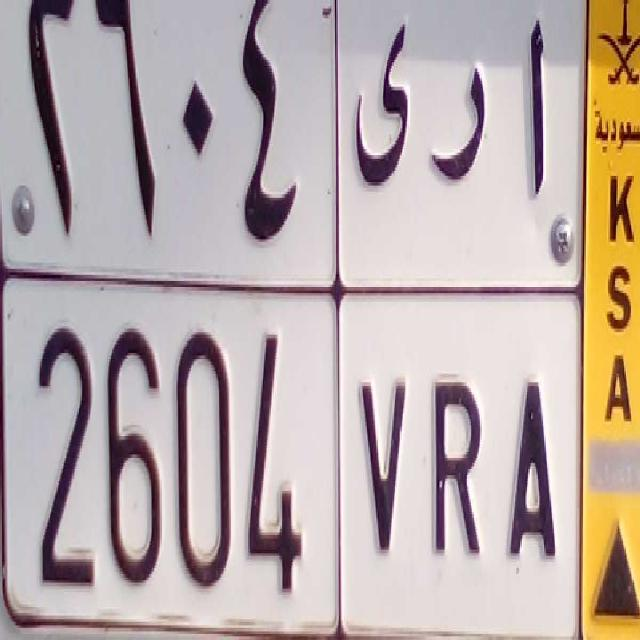license_plate: (0, 268, 585, 640)
